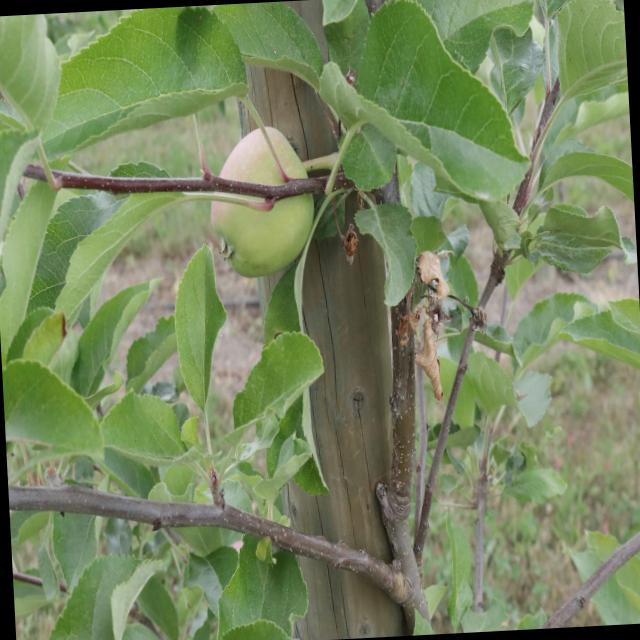-FireBlight-: (407, 251, 449, 407)
